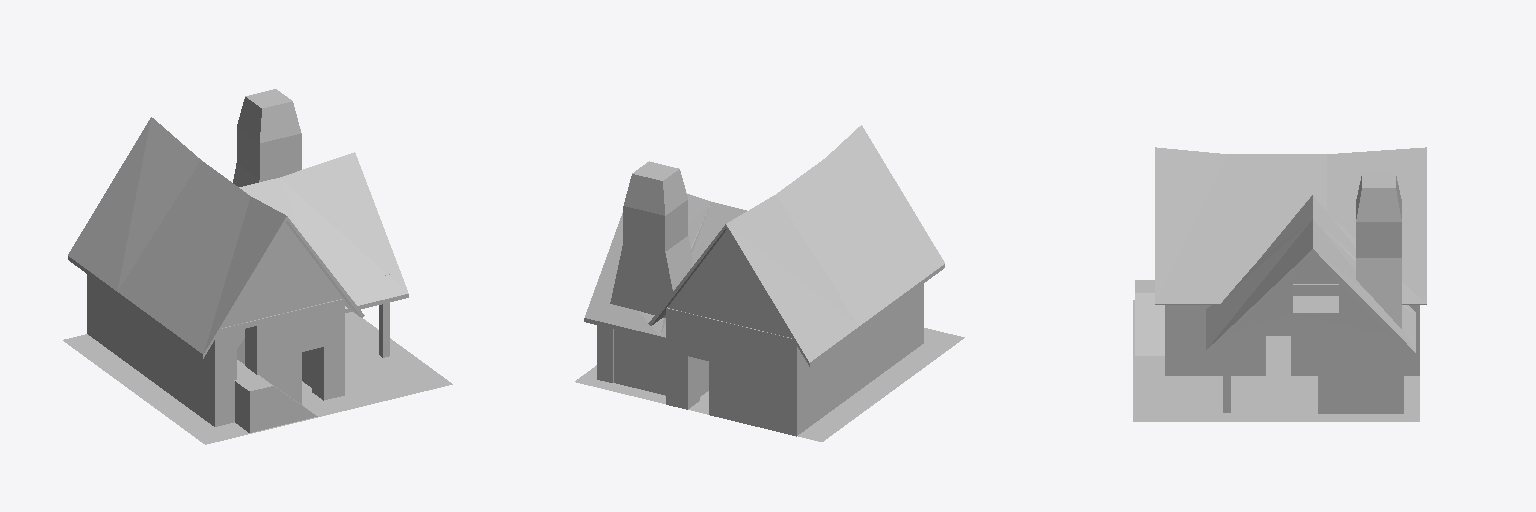
File: forgeColl.obj
3 renders of one model, left to right at view 1: azimuth 30°, elevation 25°; view 2: azimuth 150°, elevation 25°; view 3: azimuth 270°, elevation 25°, orthographic.
Parts seen in each view (by area): view 1: Material__38; view 2: Material__38; view 3: Material__38.
Part boxes in pixels (x1,y1,x2,y2): Material__38: (63,89,452,444); Material__38: (575,125,964,441); Material__38: (1133,147,1426,421).
Bounding box in the file's own units: 76 × 61.87 × 77.79.